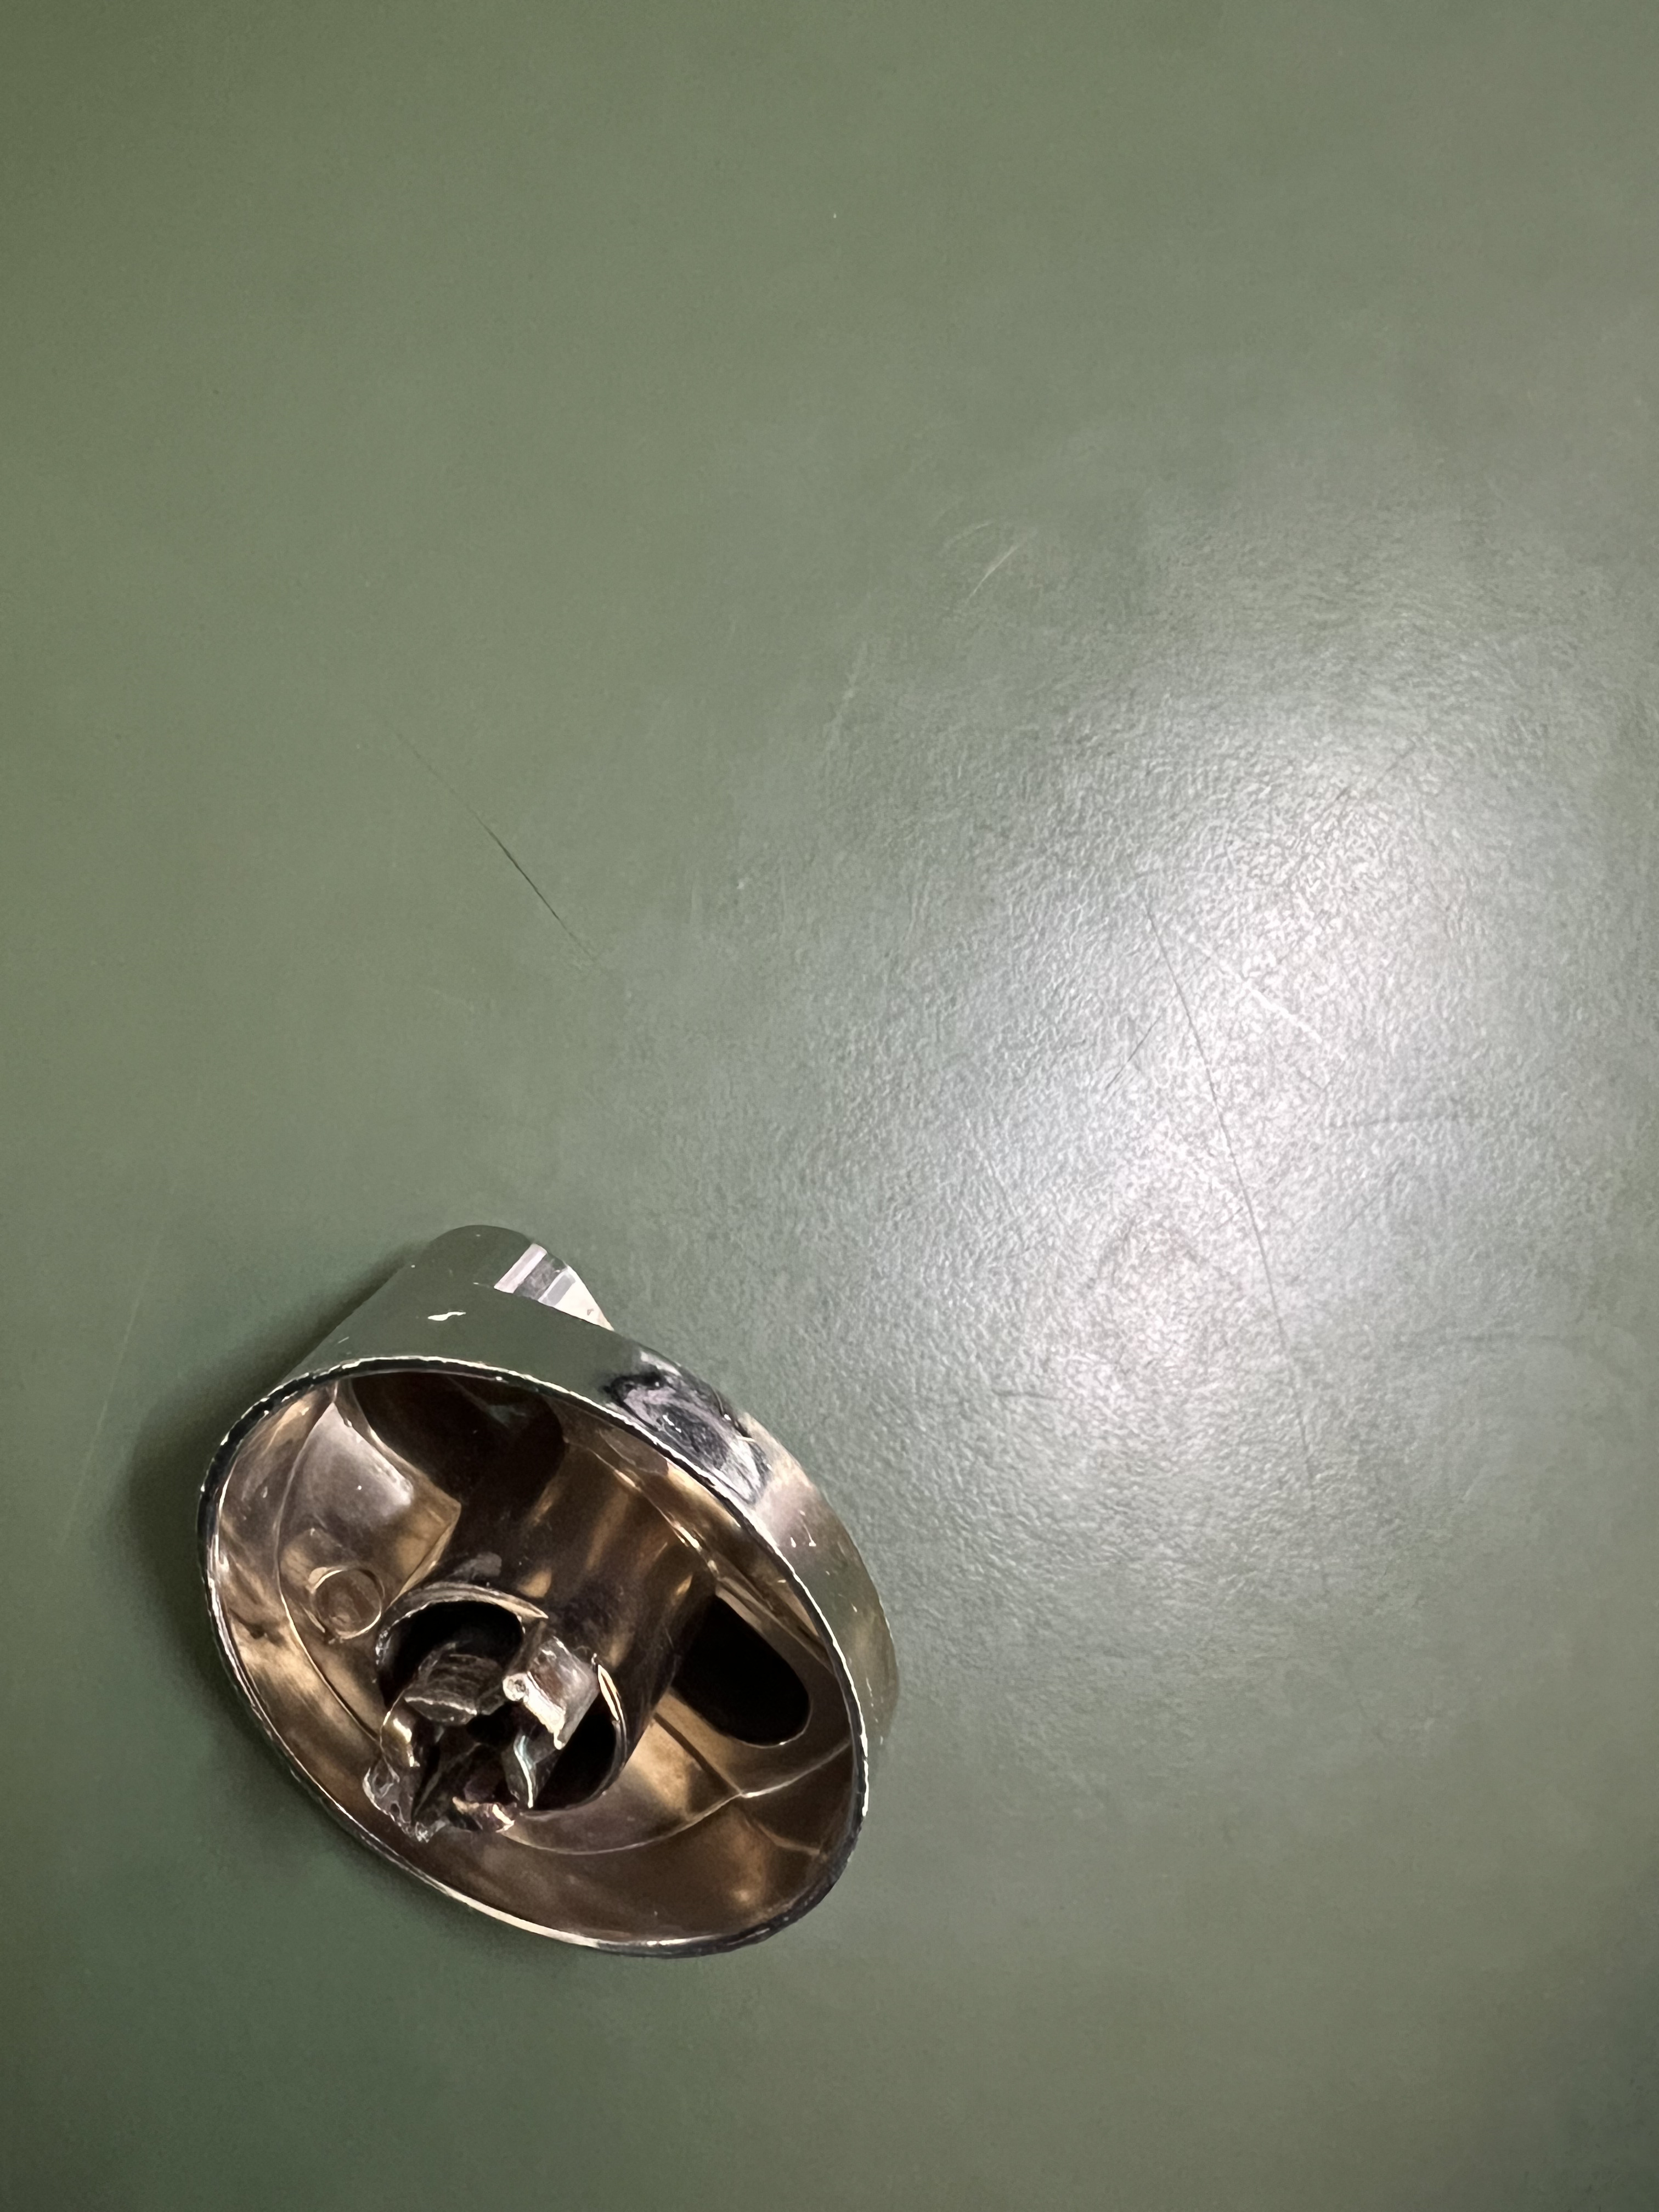regulator: (159, 1217, 929, 1989)
